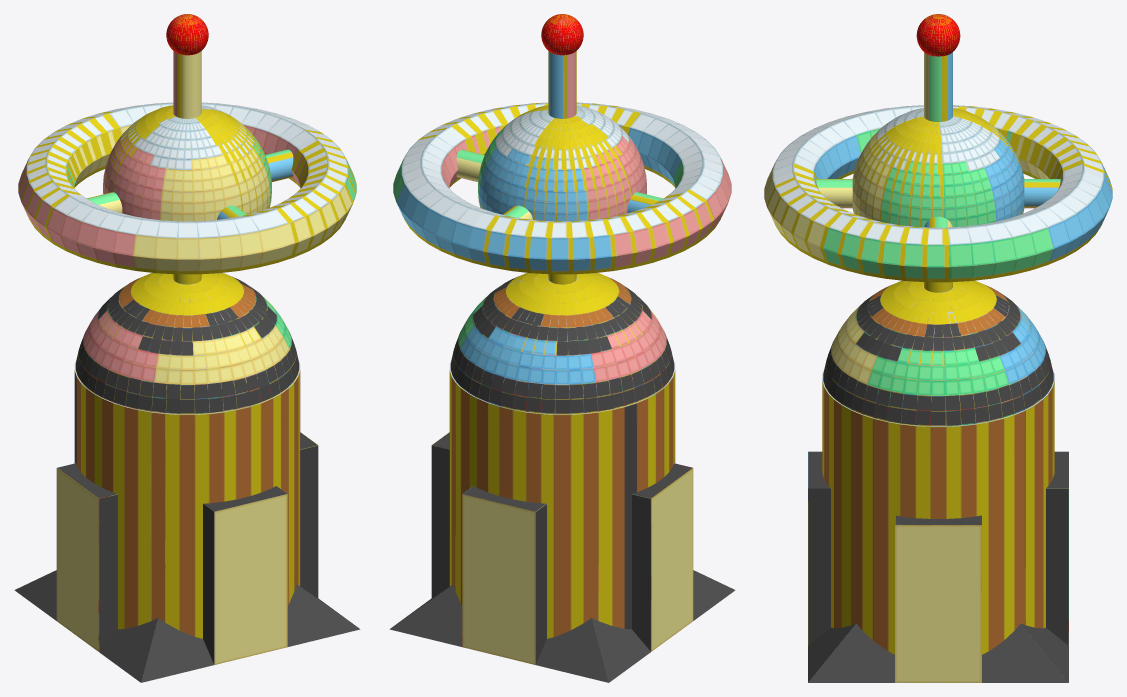
File: tesla_coil.obj
3 views of the same model, side by side, from view 1: azimuth 30°, elevation 25°; view 2: azimuth 150°, elevation 25°; view 3: azimuth 270°, elevation 25° (orthographic). The views are drawn at different scales.
Visible parts, largest first — view 1: sphere, cylinder, torus, cube, pyramid; view 2: sphere, cylinder, torus, cube, pyramid; view 3: sphere, cylinder, torus, cube, pyramid.
Part boxes in pixels (box(x1,y1,x2,y2)): sphere: box(75, 14, 299, 414); cylinder: box(74, 51, 300, 638); torus: box(18, 102, 356, 274); cube: box(56, 432, 318, 664); pyramid: box(14, 570, 360, 682); sphere: box(450, 14, 674, 414); cylinder: box(449, 51, 675, 638); torus: box(393, 102, 731, 274); cube: box(431, 432, 693, 664); pyramid: box(389, 570, 735, 682); sphere: box(823, 14, 1053, 426); cylinder: box(816, 52, 1060, 654); torus: box(764, 105, 1112, 282); cube: box(808, 451, 1068, 682); pyramid: box(808, 623, 1068, 682).
Size of the model in its own units: 1.5 by 2.91 by 1.5.
